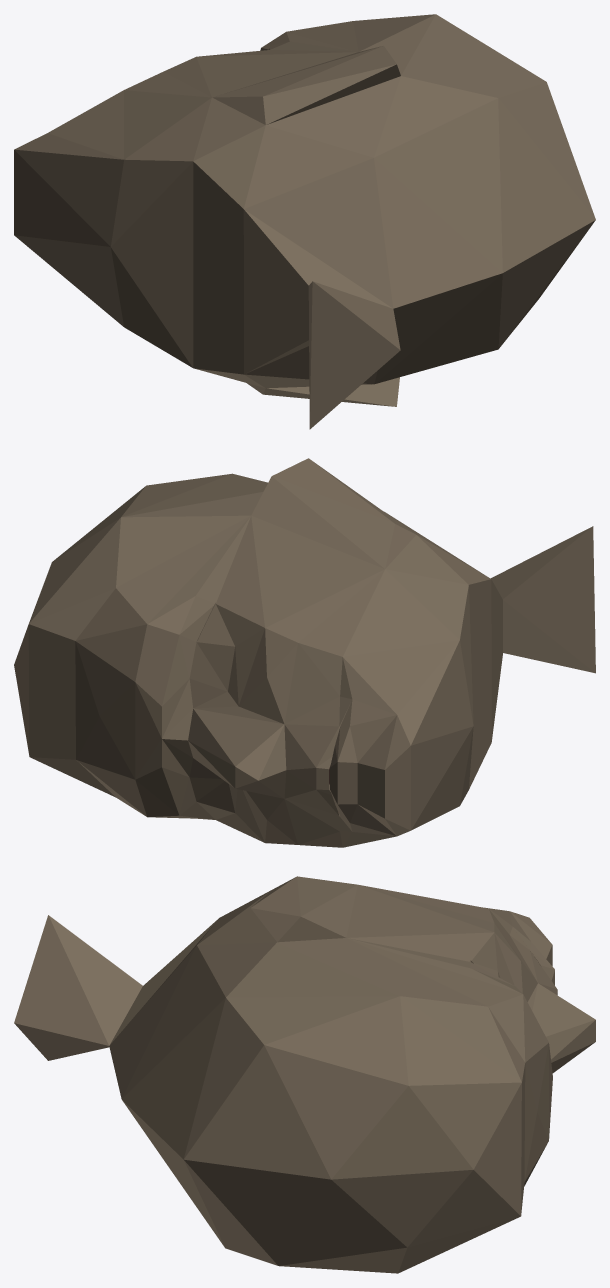
File: HUM_HEAD_PONY.OBJ
3 views of the same model, one above another, from view 1: azimuth 30°, elevation 25°; view 2: azimuth 150°, elevation 25°; view 3: azimuth 270°, elevation 25° (orthographic).
Parts seen in each view (by area): view 1: HUM_HEAD_PONY; view 2: HUM_HEAD_PONY; view 3: HUM_HEAD_PONY.
Part boxes in pixels (left/top/right/bottom): HUM_HEAD_PONY: left=14, top=14, right=595, bottom=429; HUM_HEAD_PONY: left=14, top=458, right=595, bottom=847; HUM_HEAD_PONY: left=14, top=876, right=595, bottom=1273.
Bounding box in the file's own units: 0.2732 × 0.199 × 0.3069.
